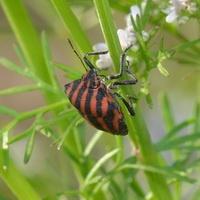insect: (65, 45, 136, 134)
